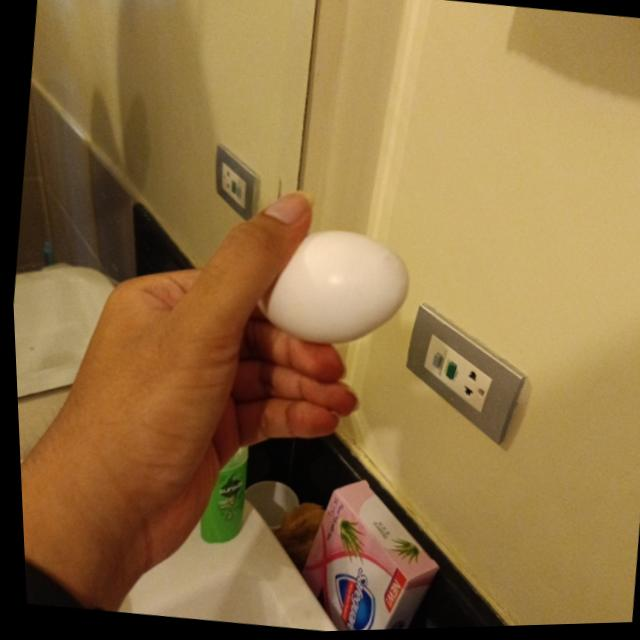egg: (249, 223, 415, 352)
